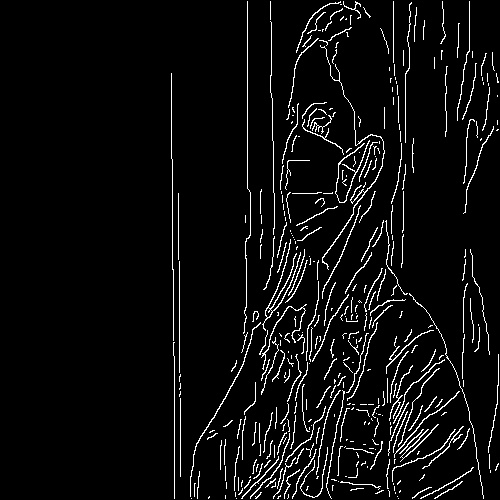mask: (275, 148, 350, 241)
